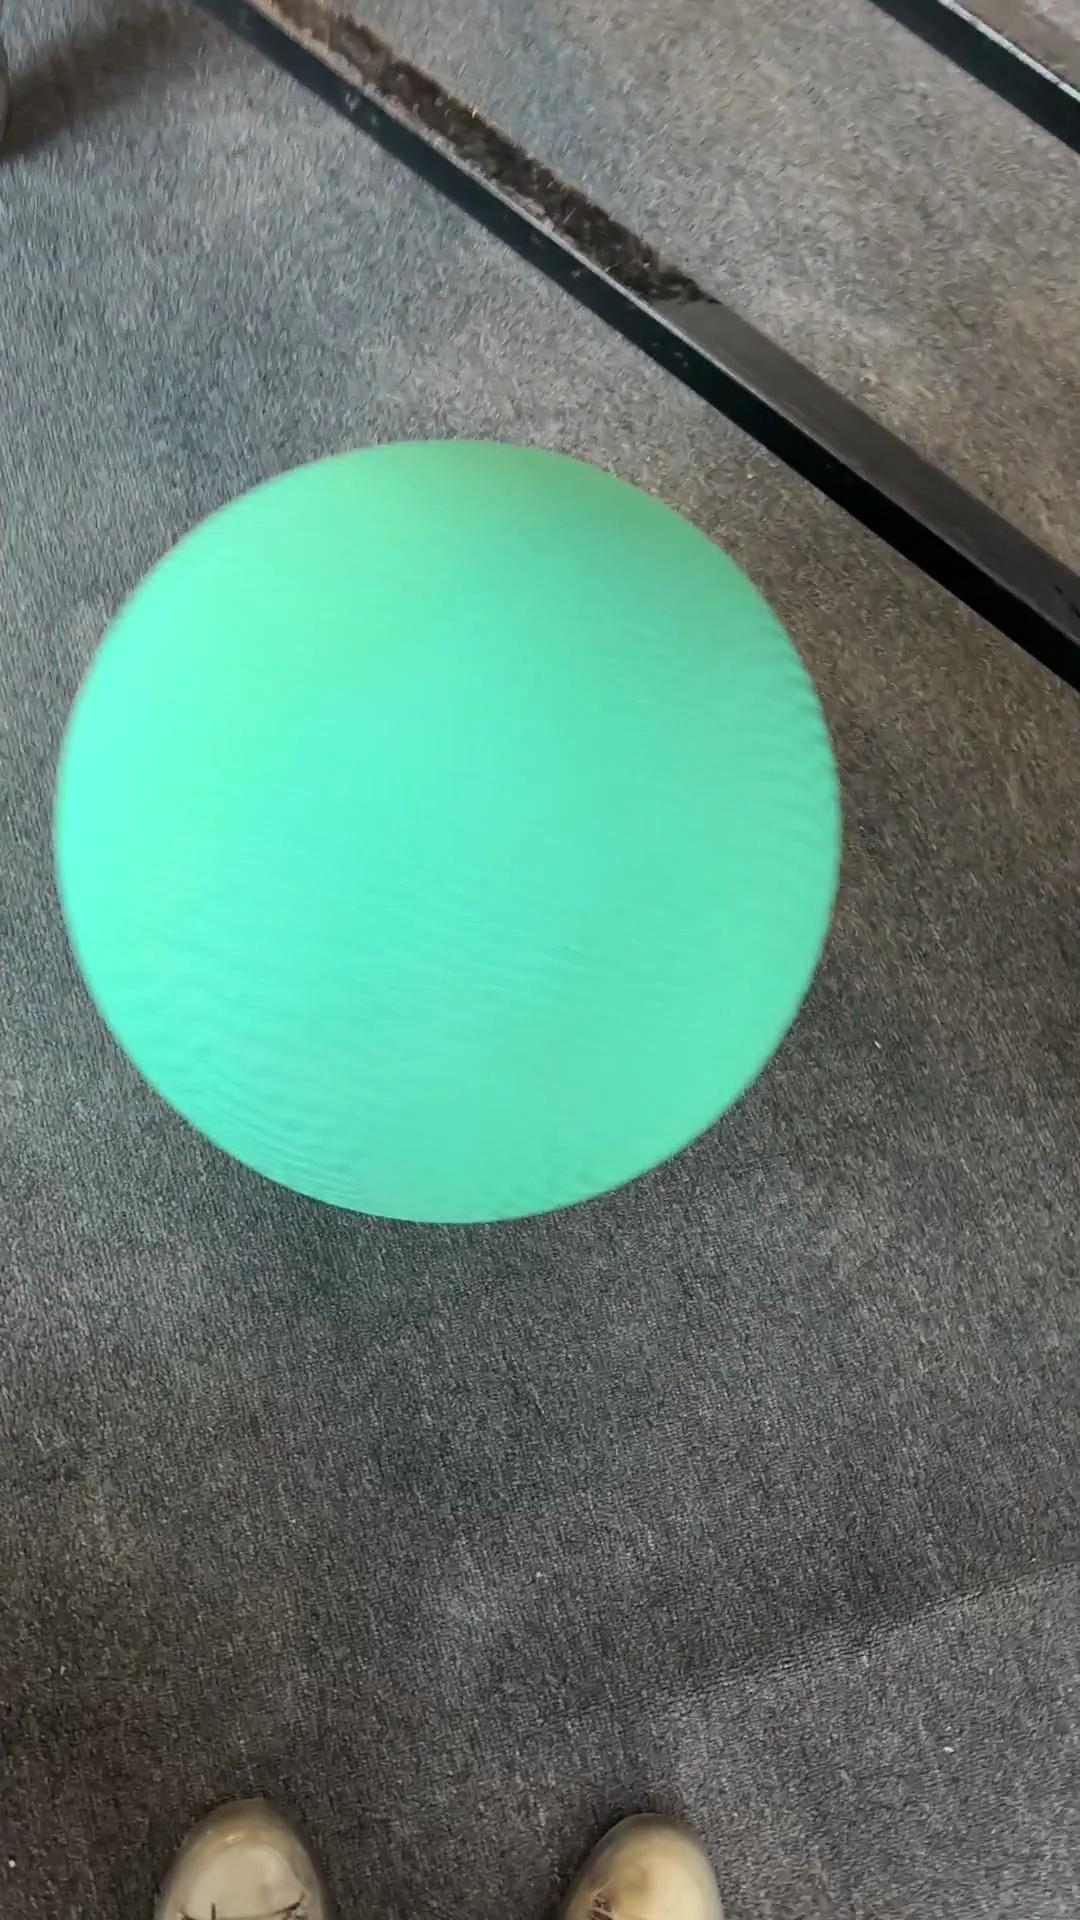ALGAE: (49, 434, 844, 1226)
